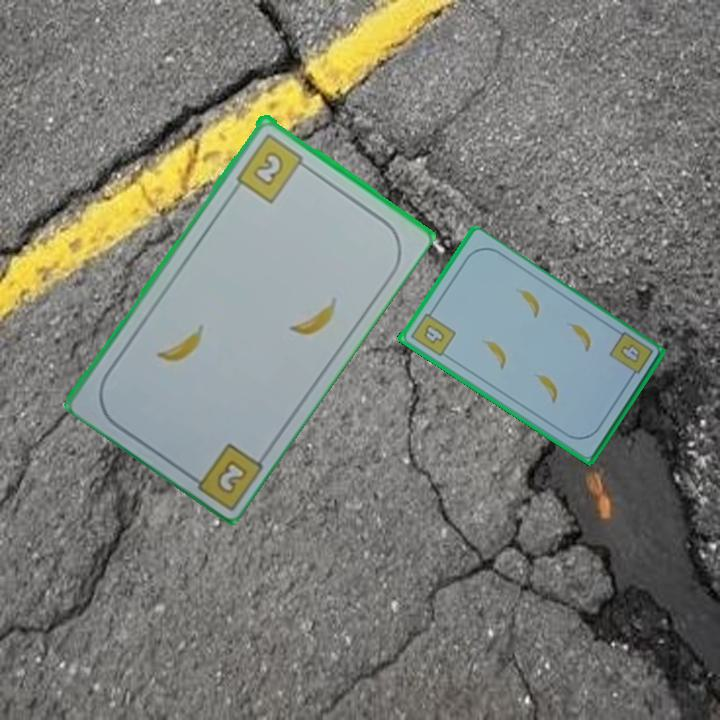2b: (232, 129, 312, 205), (212, 455, 250, 497)
4b: (605, 328, 656, 384), (406, 305, 458, 359)
